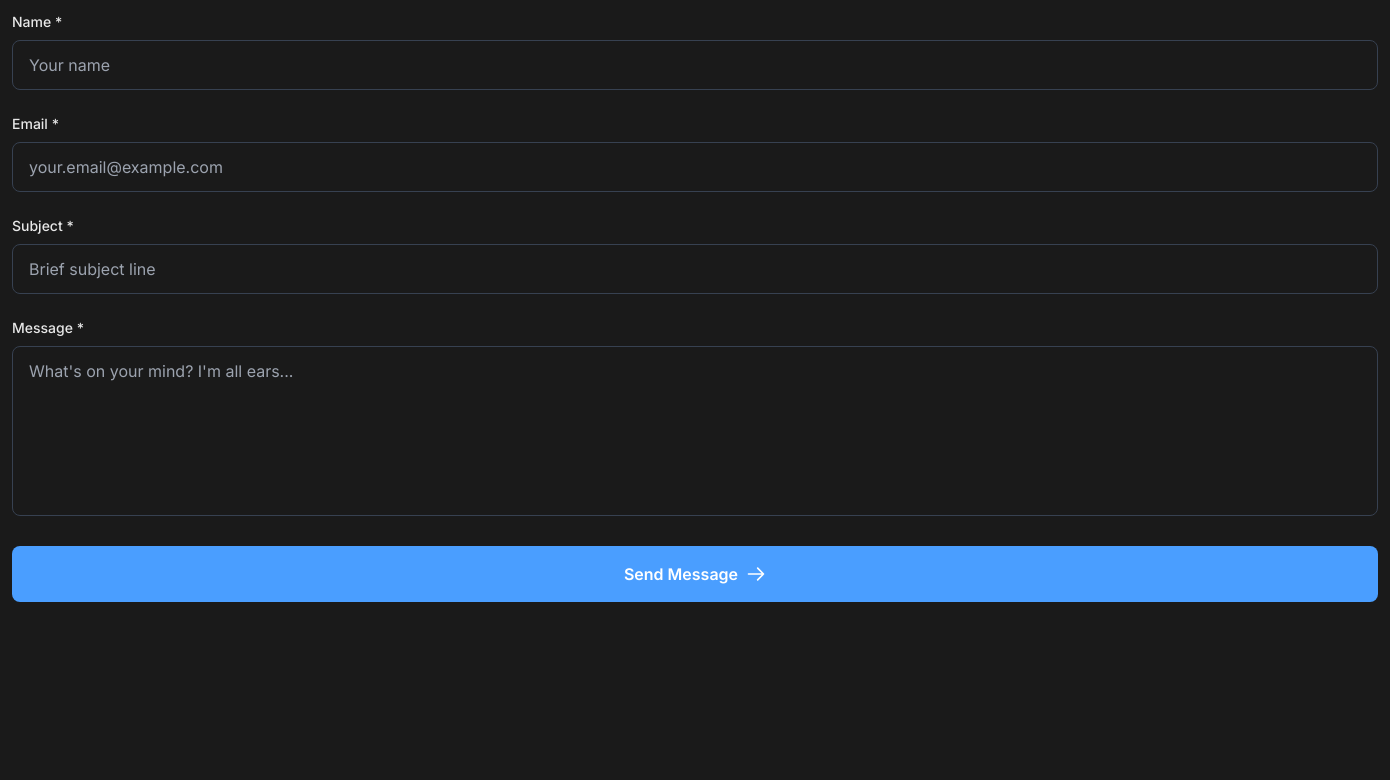
Test case: ContactForm › Error Handling › displays error message when network request fails
Step 1. Type "John Doe" into the field labelled "Name *" → {"x": 695, "y": 65}, box [12, 40, 1378, 90]
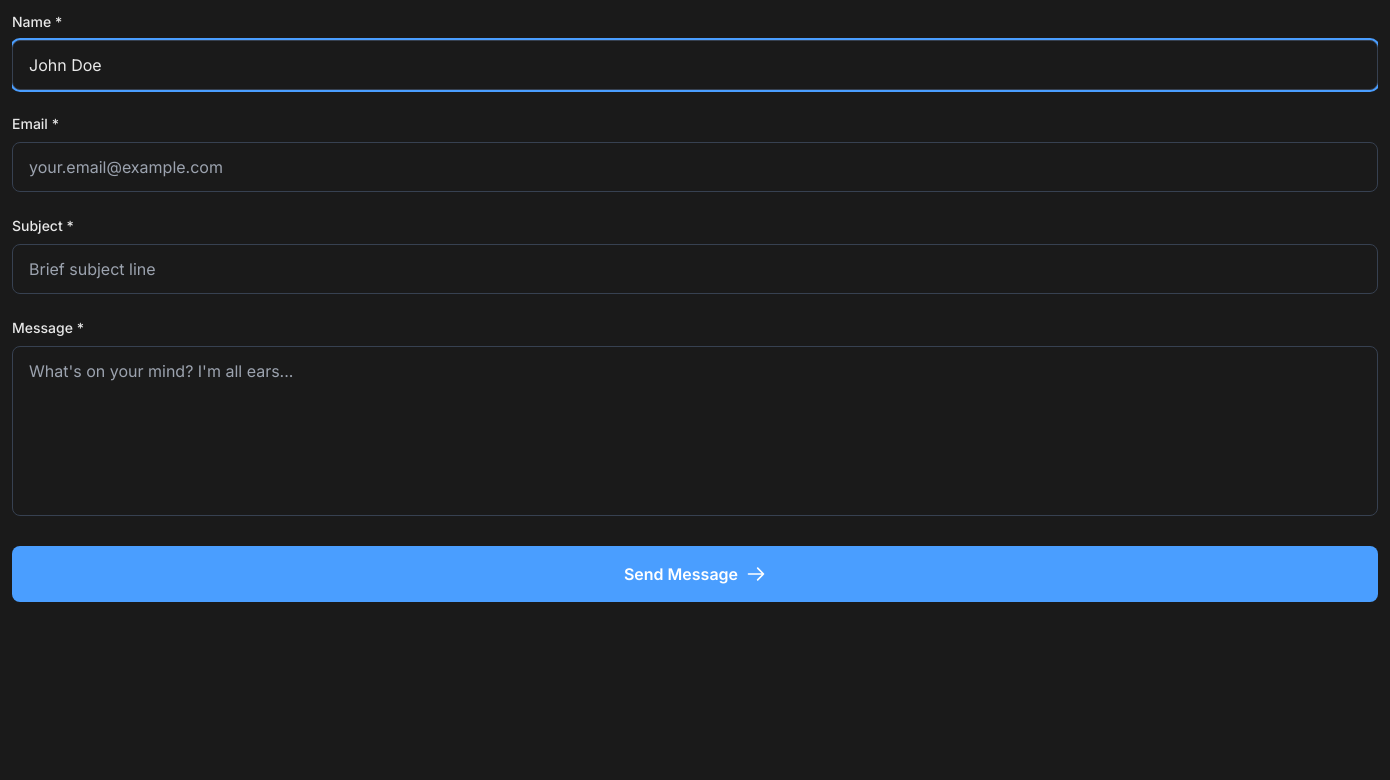
Step 2. Type "john@example.com" into the field labelled "Email *" → {"x": 695, "y": 167}, box [12, 142, 1378, 192]
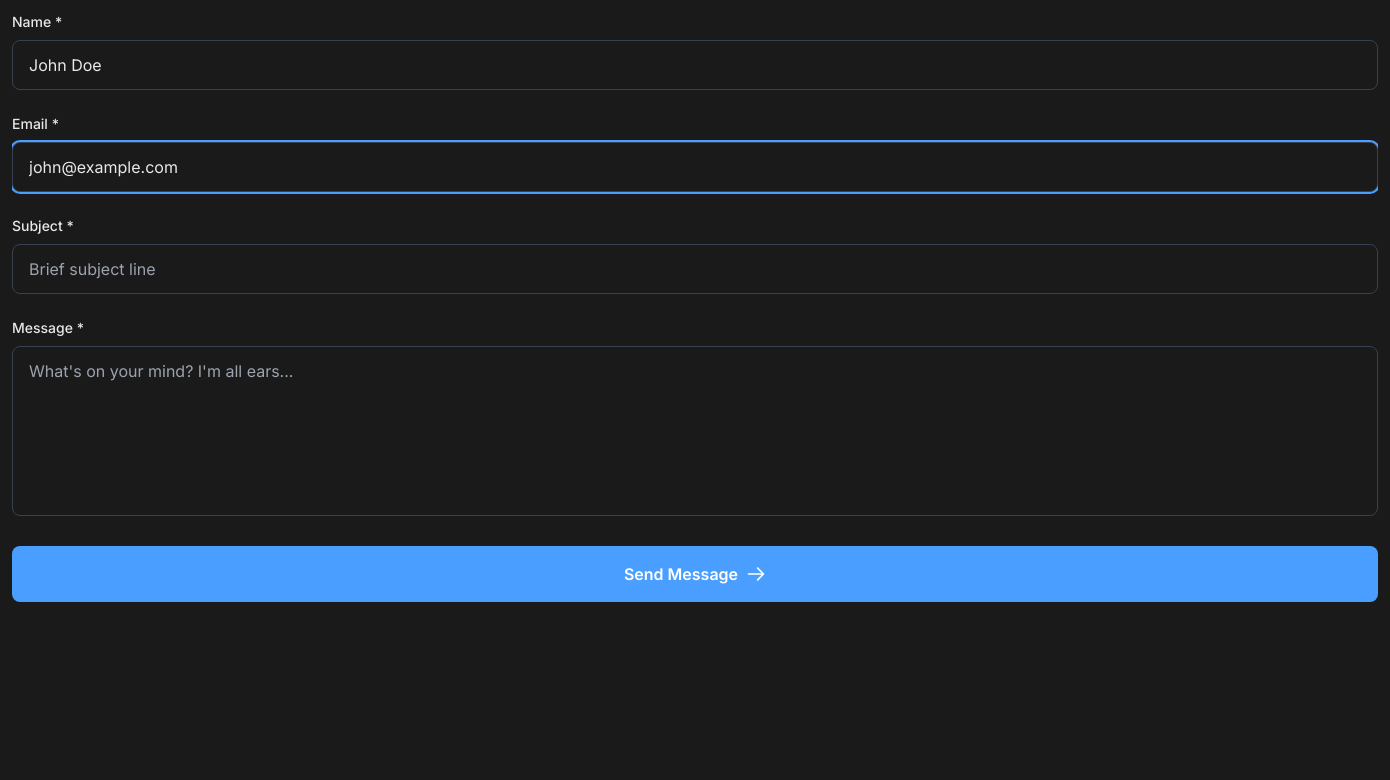
Step 3. Type "Test Subject" into the field labelled "Subject *" → {"x": 695, "y": 269}, box [12, 244, 1378, 294]
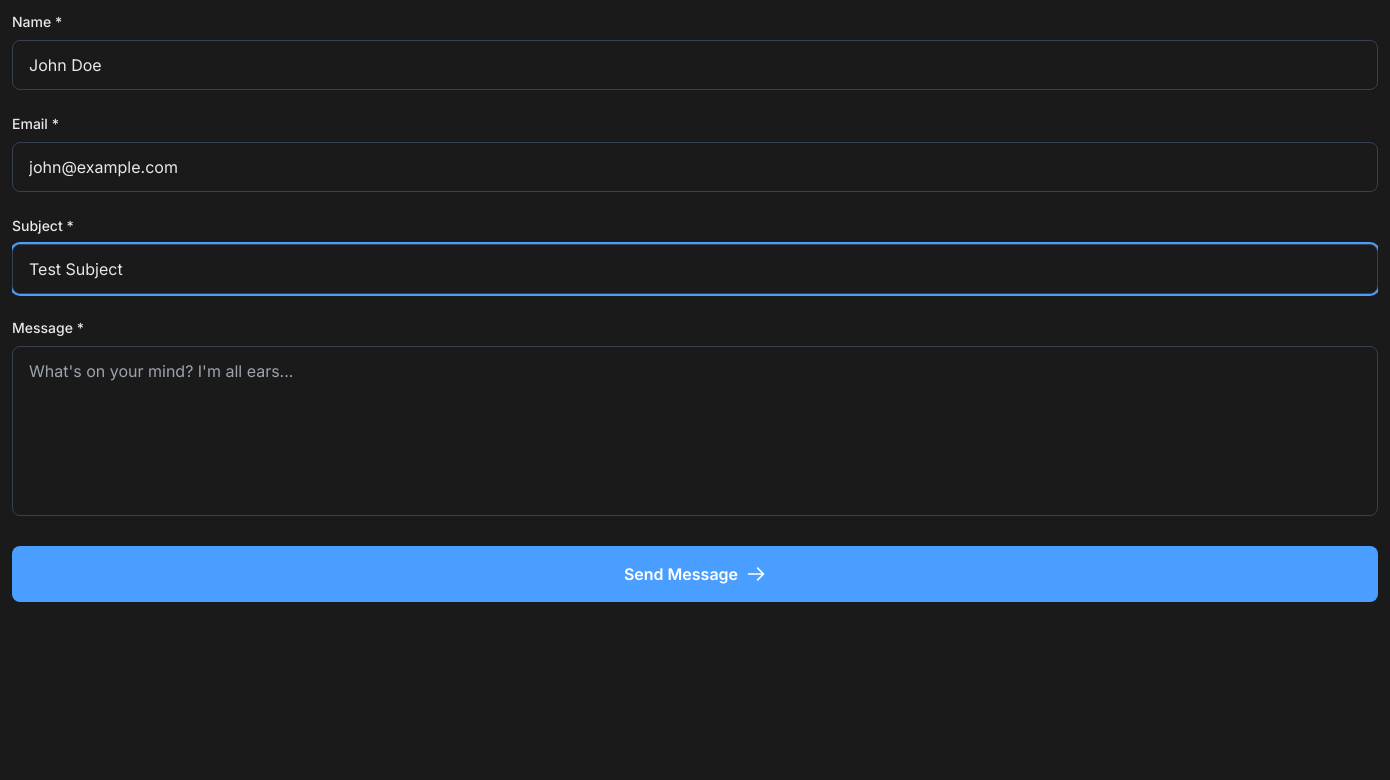
Step 4. Type "Test Message" into the text box labelled "Message *" → {"x": 695, "y": 431}, box [12, 346, 1378, 516]
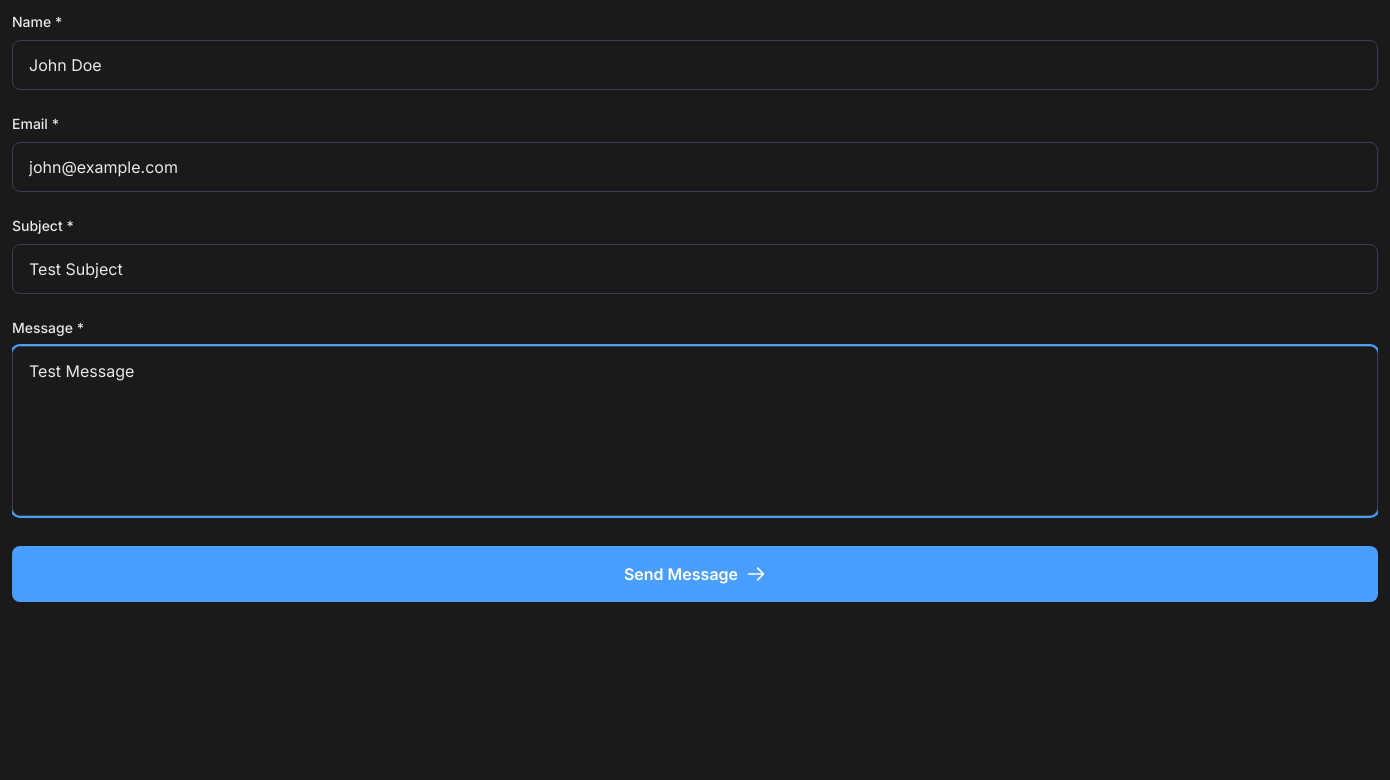
Step 5. Click the button "Send Message" → {"x": 695, "y": 574}, box [12, 546, 1378, 602]
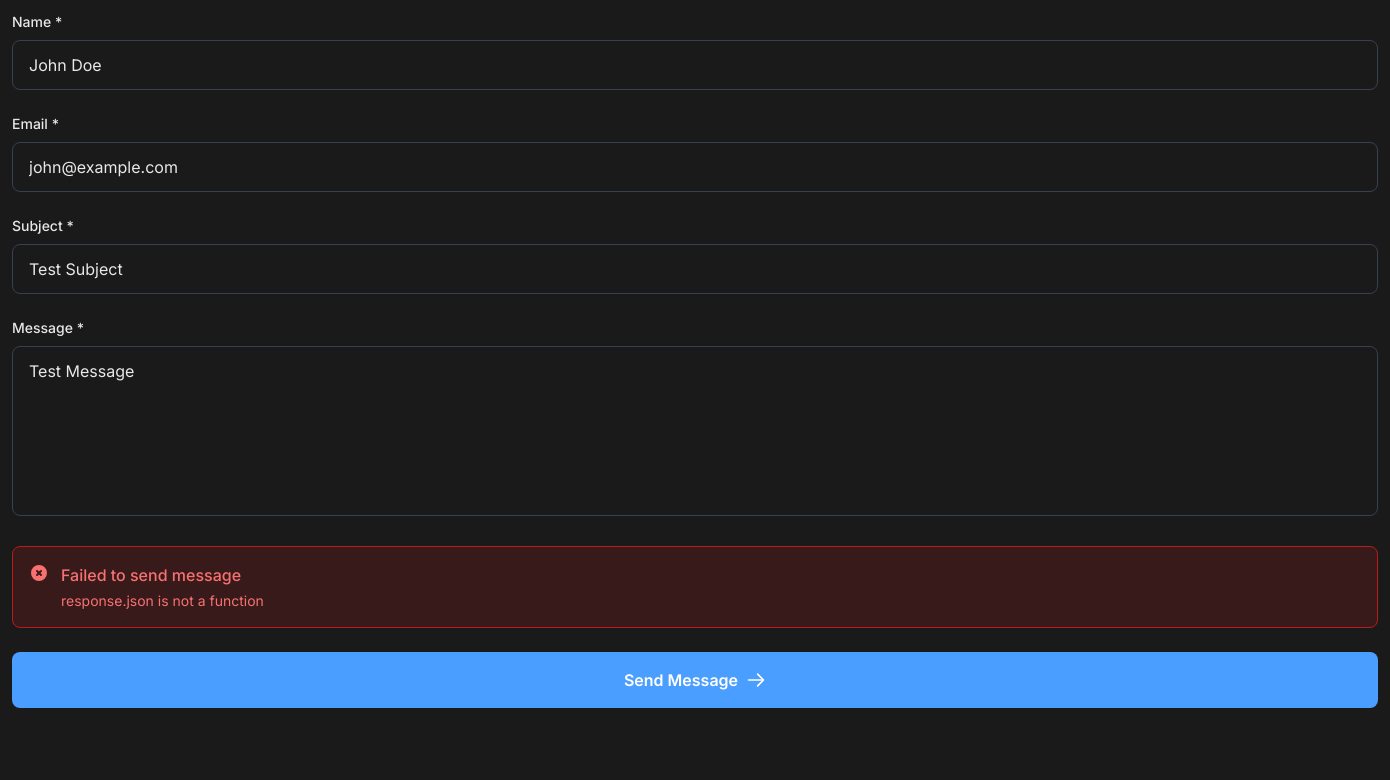
Expected: the text "Failed to send message" is shown, [61, 565, 241, 585]
